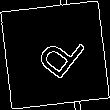P_SW: (24, 24, 86, 86)
